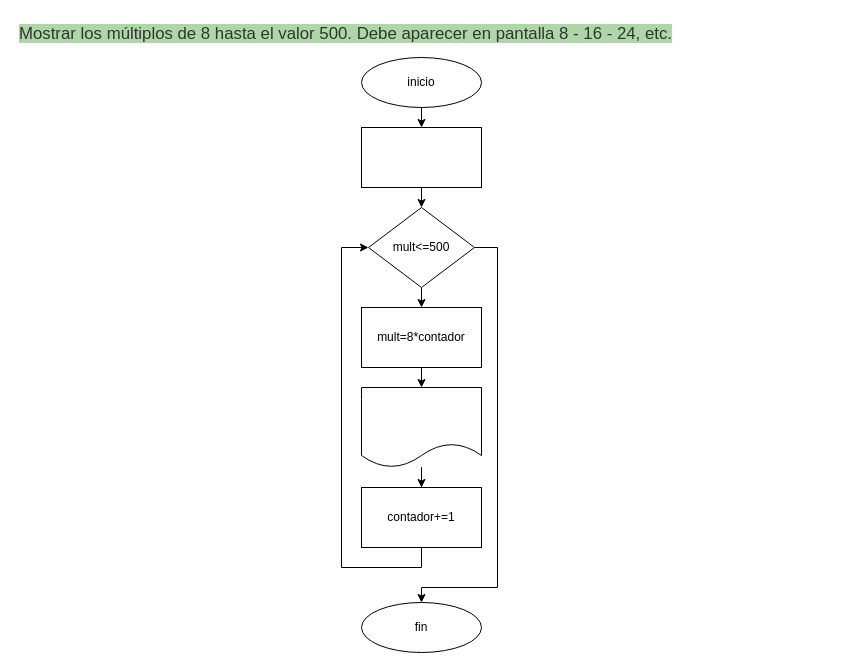
Some shapes in this 844 by 670 pixel diagram are drawn without their labels. Each missing label, with the box of its shape:
contador=1, mult=0: (360, 126, 482, 188)
mult: (360, 386, 482, 468)
